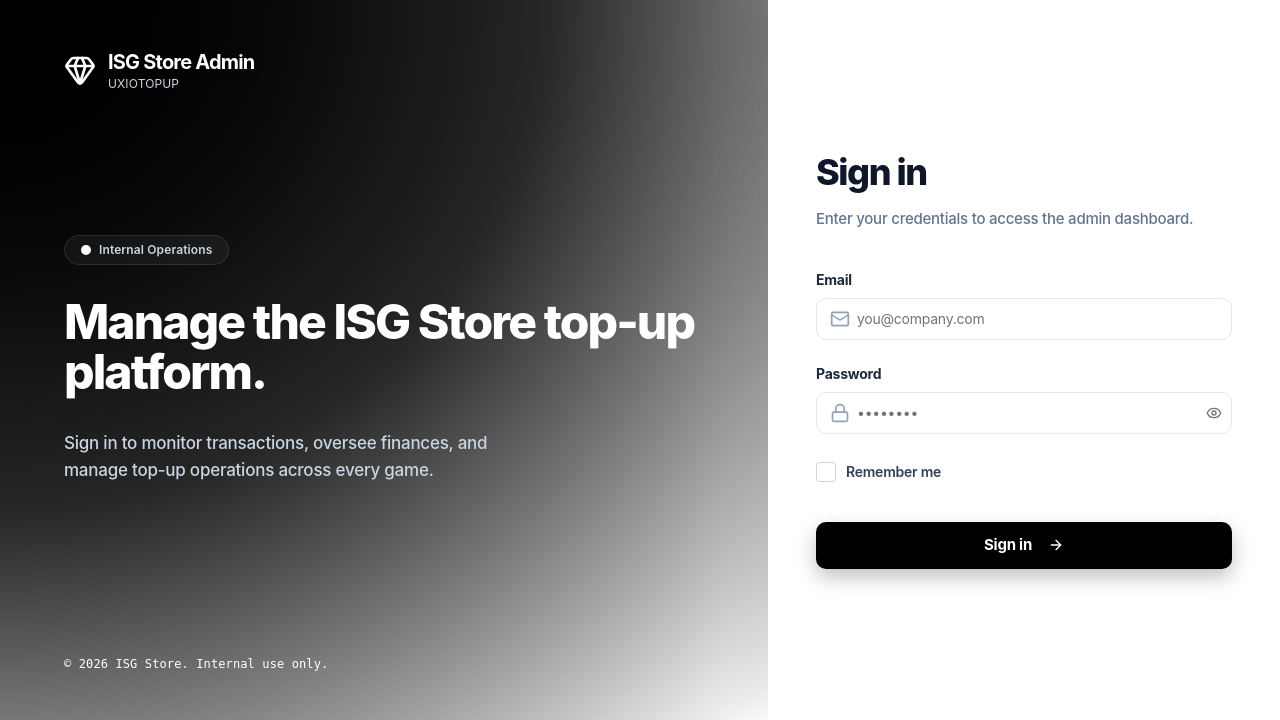
Test: two-factor login › asks for a code instead of signing in, and stores no session yet
In the field labelled "Email": x=1024, y=319 [816, 298, 1232, 340], type "admin@example.test"
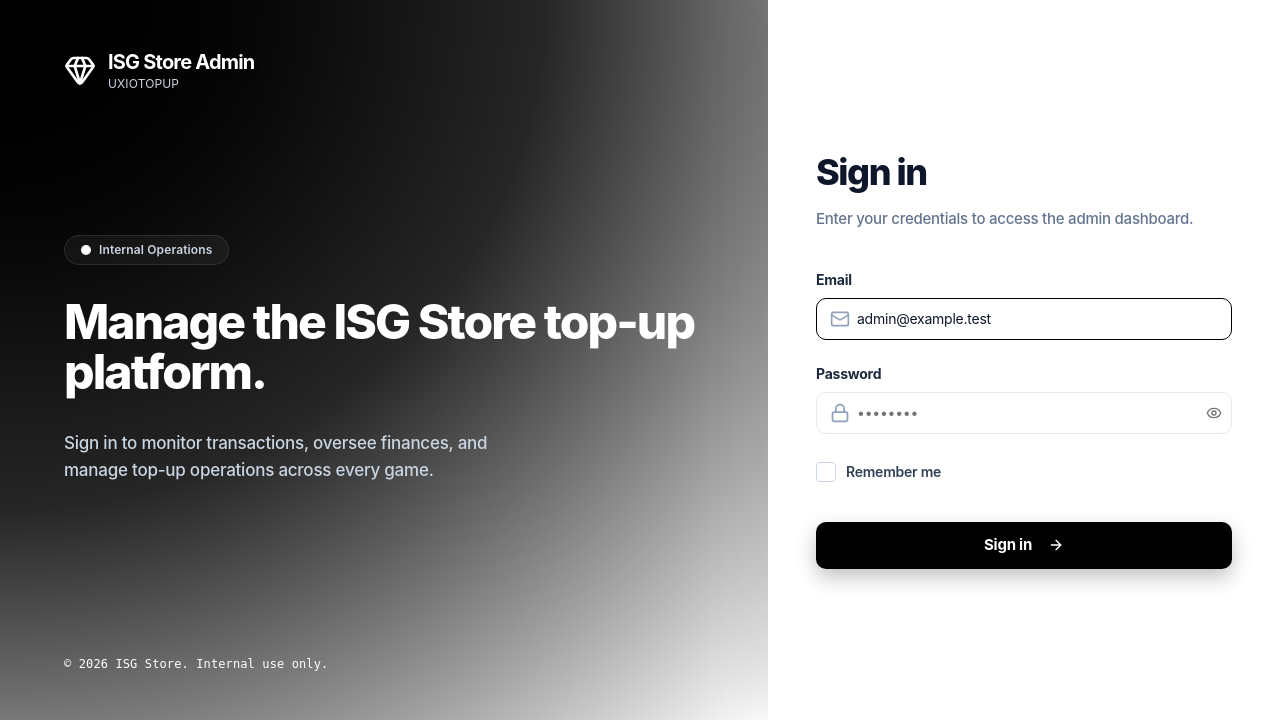
In the password field labelled "Password": x=1024, y=413 [816, 392, 1232, 434], type "secret123"
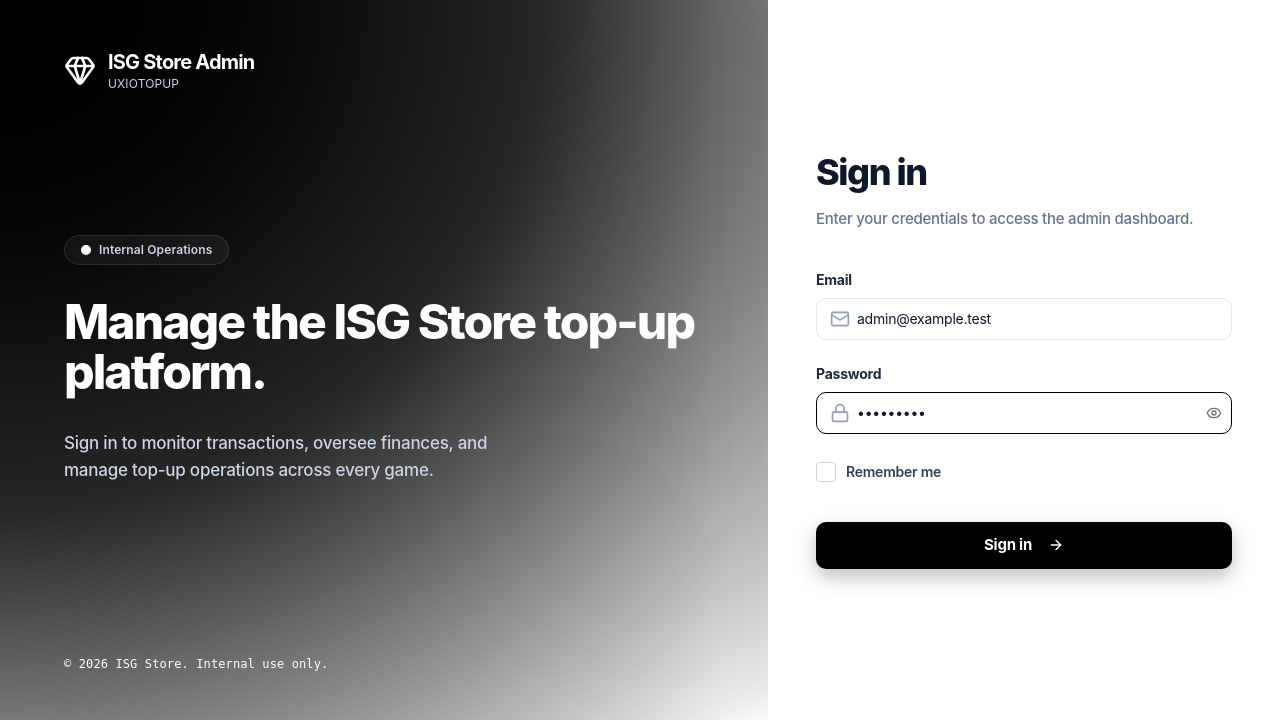
Click the button "Sign in": x=1024, y=545 [816, 522, 1232, 568]
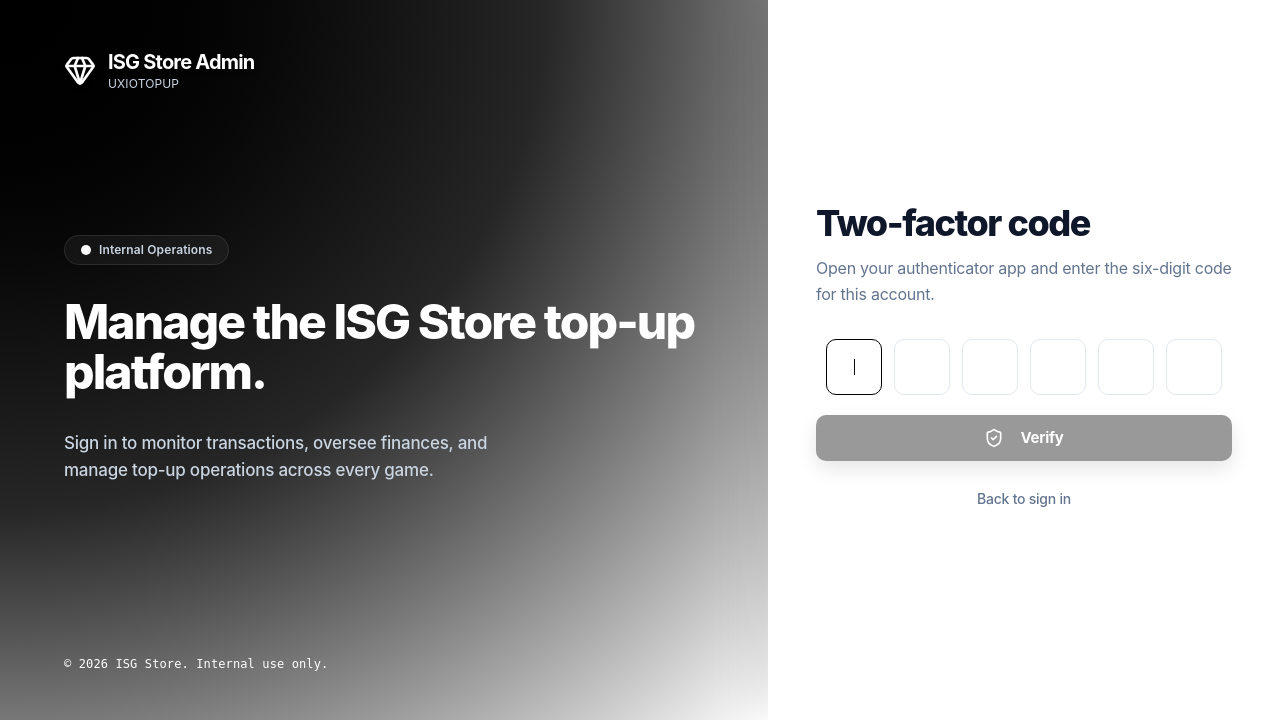
Now the heading "Two-factor code" is shown, box [816, 201, 1090, 245]
